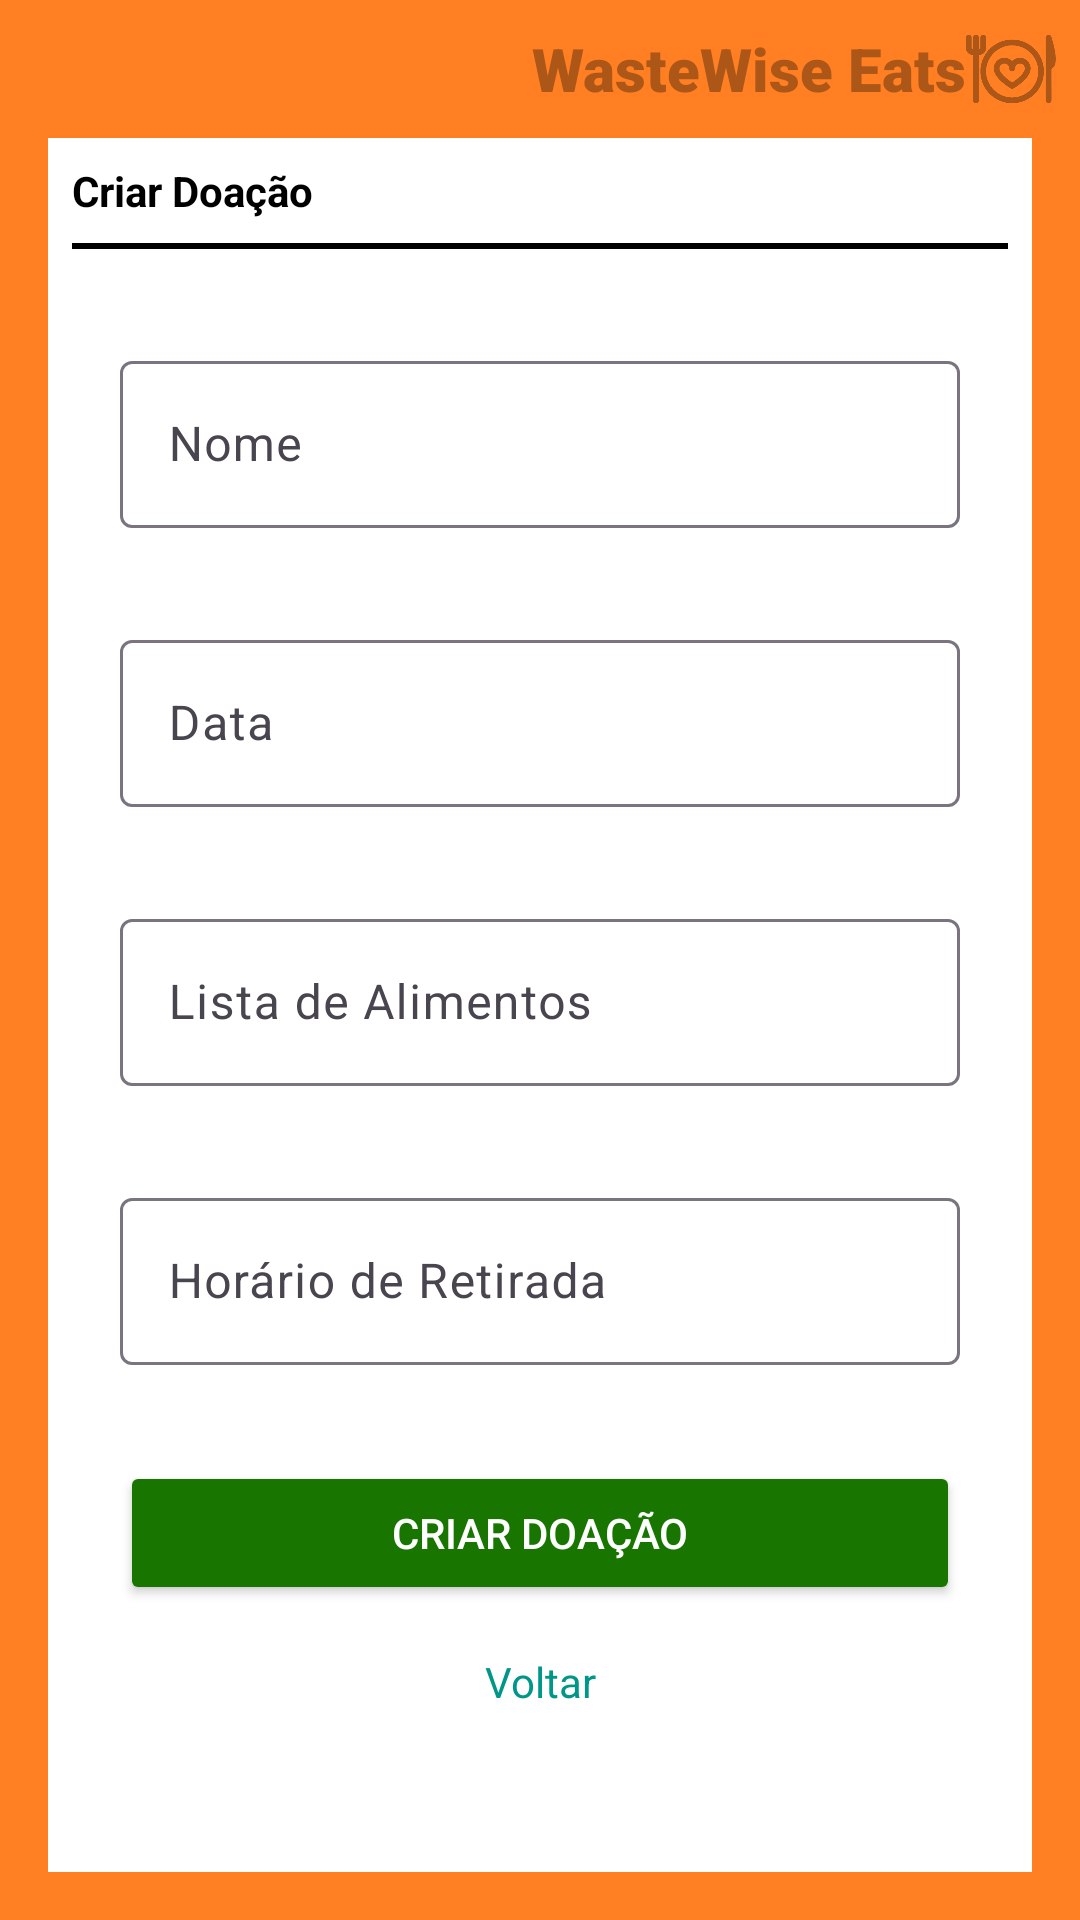

Icon bounding boxes for this 1080 x 1920 phone screenshot, format box(x1, y1, x2, y2):
prato: box(966, 35, 1056, 103)
